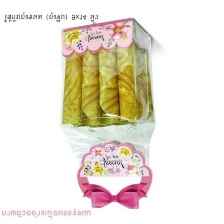snack: (49, 13, 162, 217)
